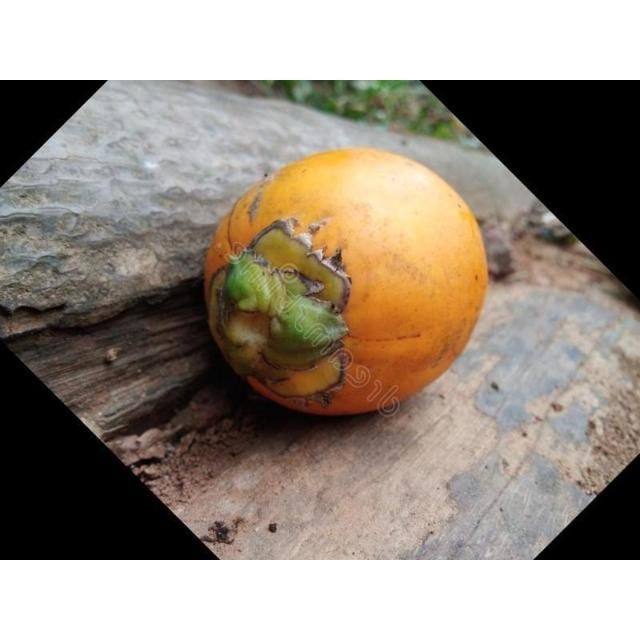good: (201, 148, 488, 418)
